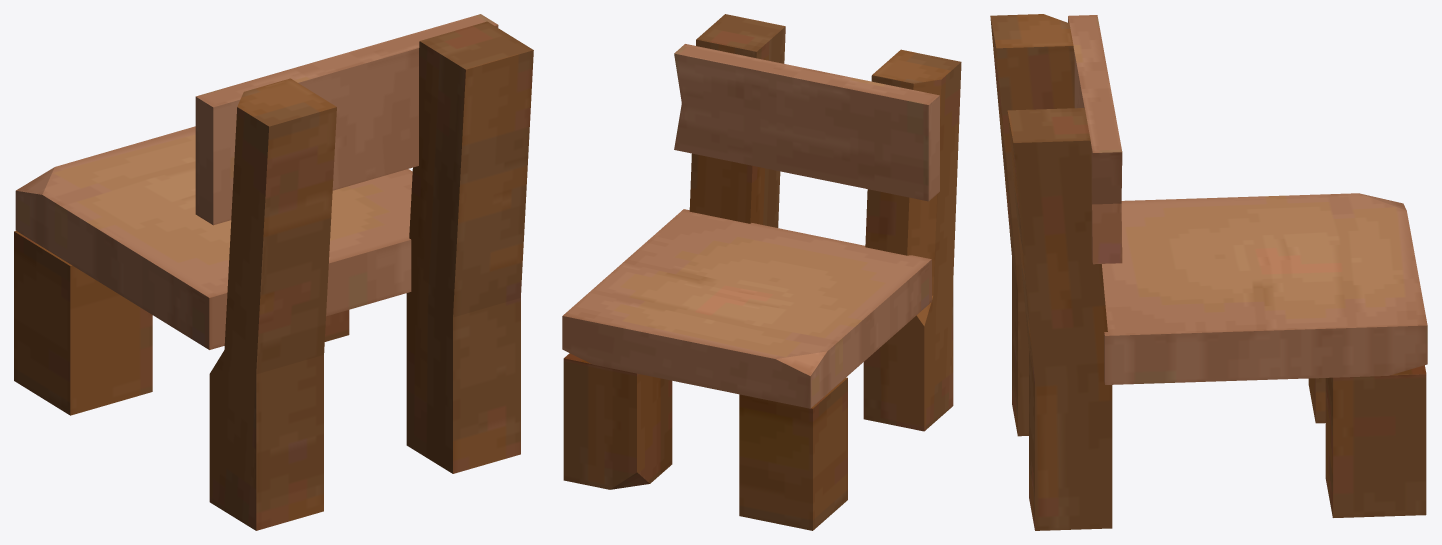
File: stool.gltf
The picture shows the model from 3 angles, left to right: view 1: azimuth 30°, elevation 25°; view 2: azimuth 150°, elevation 25°; view 3: azimuth 270°, elevation 25°; orthographic projection. The views are drawn at different scales.
Visible parts, largest first — view 1: chair.002; view 2: chair.002; view 3: chair.002.
Part boxes in pixels (box(x1,y1,x2,y2)): chair.002: box(14, 14, 533, 530); chair.002: box(562, 14, 961, 530); chair.002: box(990, 14, 1427, 530).
Size of the model in its own units: 0.6656 by 0.8186 by 0.8349.
1 material, 1 textured.
